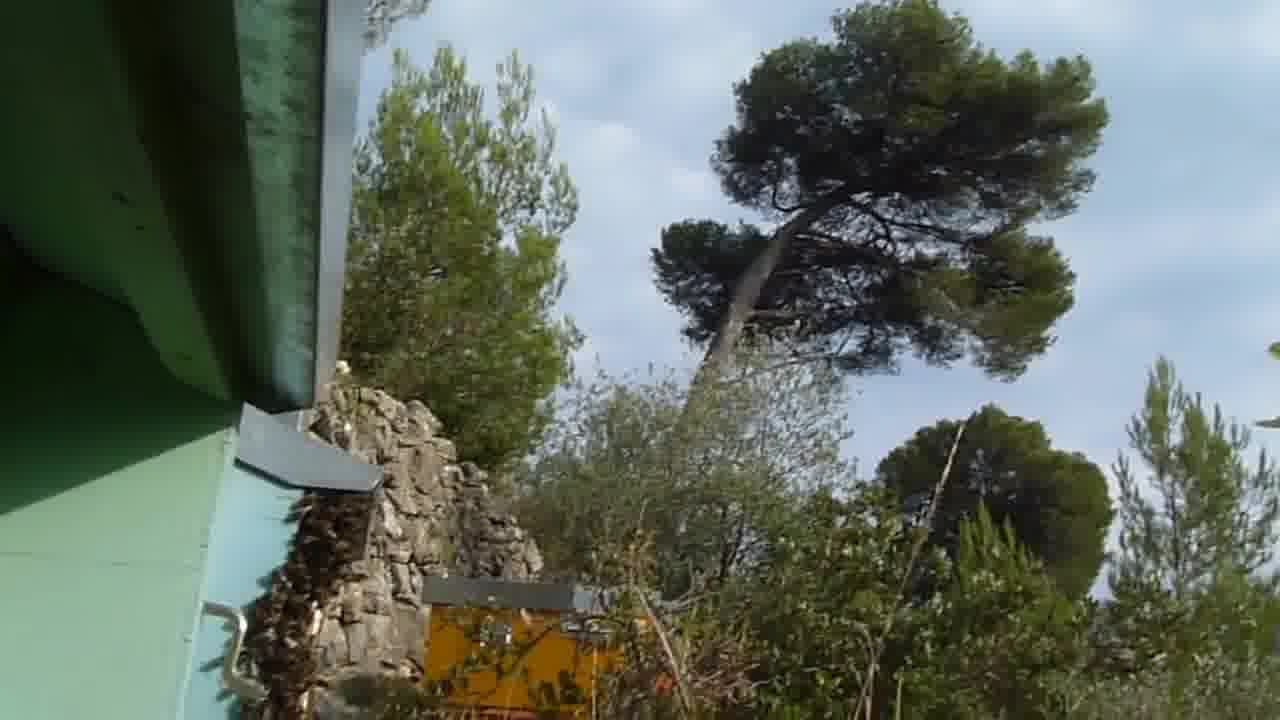bee: (245, 568, 332, 690), (290, 485, 378, 573)
